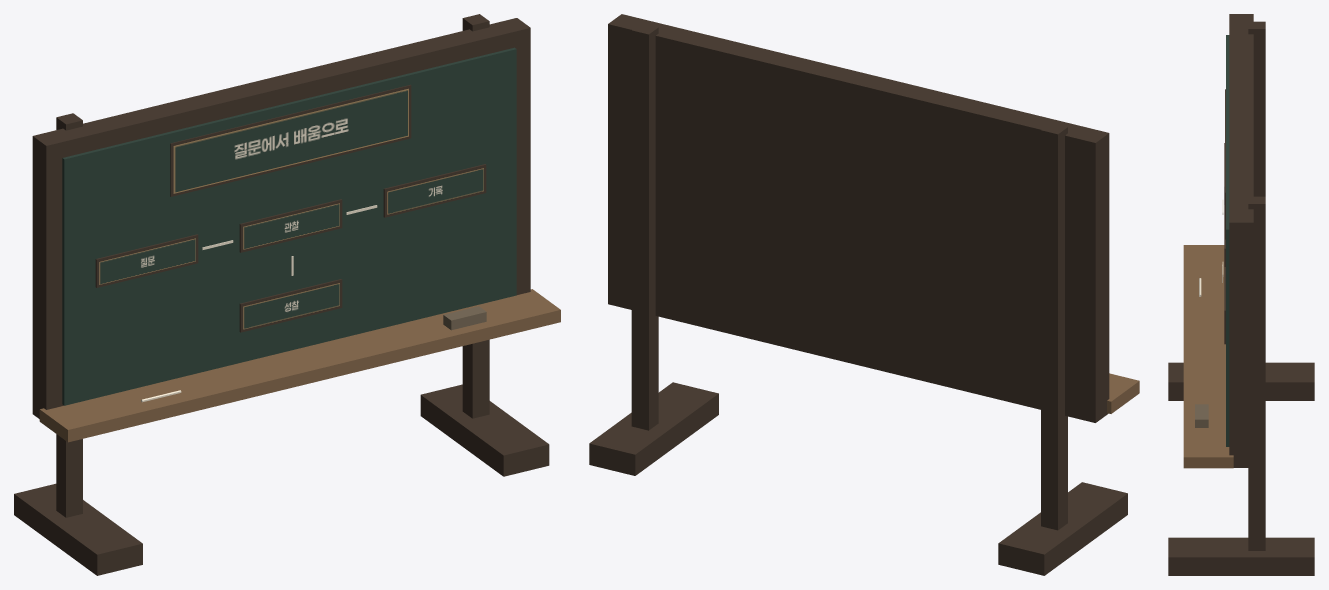
Rendered from 07_Lecture_Thinking_Board.fbx.
The picture shows the model from 3 angles, left to right: view 1: azimuth 30°, elevation 25°; view 2: azimuth 150°, elevation 25°; view 3: azimuth 270°, elevation 25°; orthographic projection. The views are drawn at different scales.
Parts seen in each view (by area): view 1: 07_Lecture_Thinking_Board__Structure; view 2: 07_Lecture_Thinking_Board__Structure; view 3: 07_Lecture_Thinking_Board__Structure.
Part boxes in pixels (x1=…): 07_Lecture_Thinking_Board__Structure: x1=14, y1=14, x2=560, y2=575; 07_Lecture_Thinking_Board__Structure: x1=589, y1=14, x2=1139, y2=575; 07_Lecture_Thinking_Board__Structure: x1=1168, y1=14, x2=1314, y2=575.
Size of the model in its own units: 291 by 234 by 85.
1 material, 1 textured.
